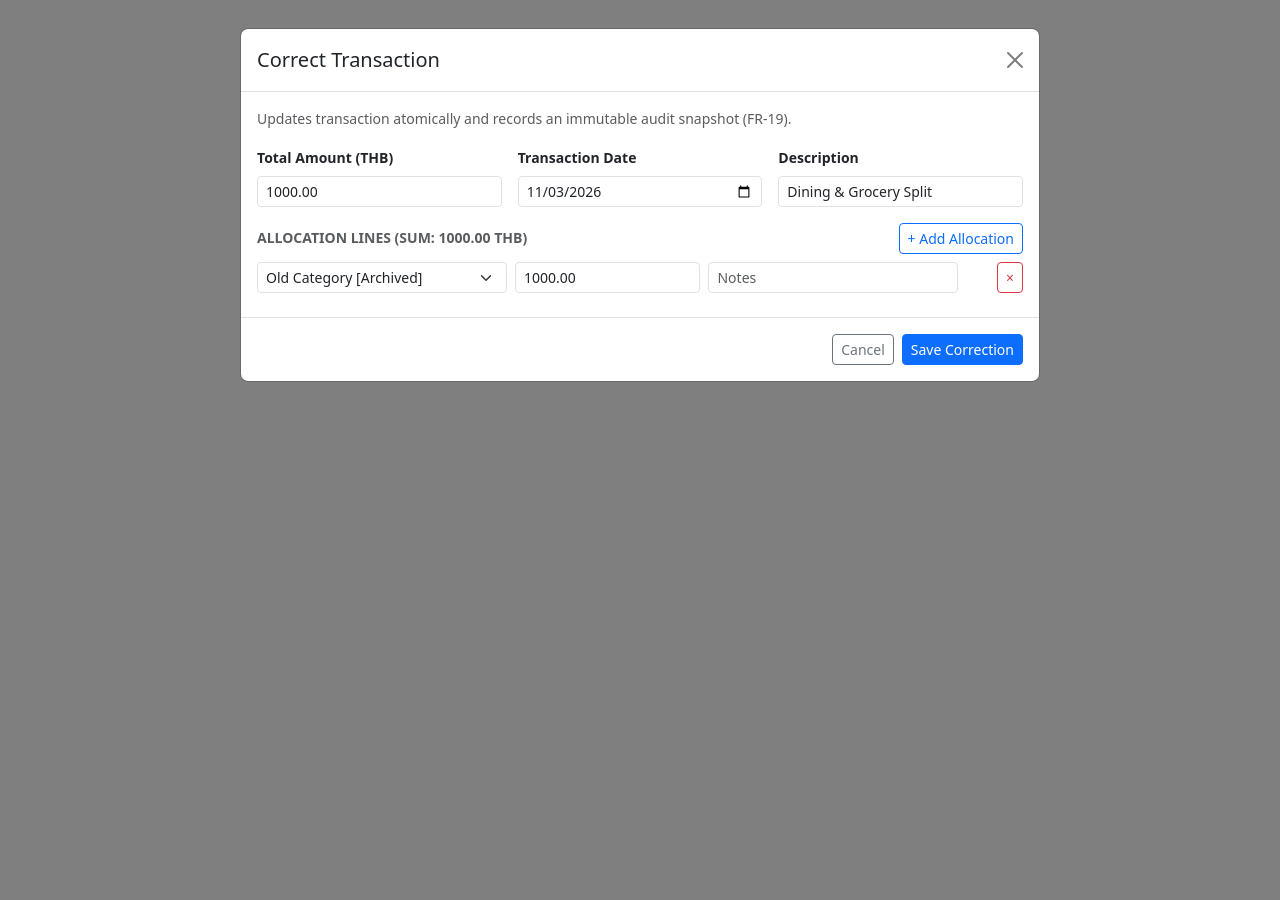
Scenario: Frontend TransactionCorrectionModal Suite (WP-11, Feature F-16, Task 3) › blocks submitting a transaction whose existing target account is archived
Step 1. Click the button with test id "btn-save-correction" → (962, 350), box x1=902 y1=334 x2=1023 y2=365
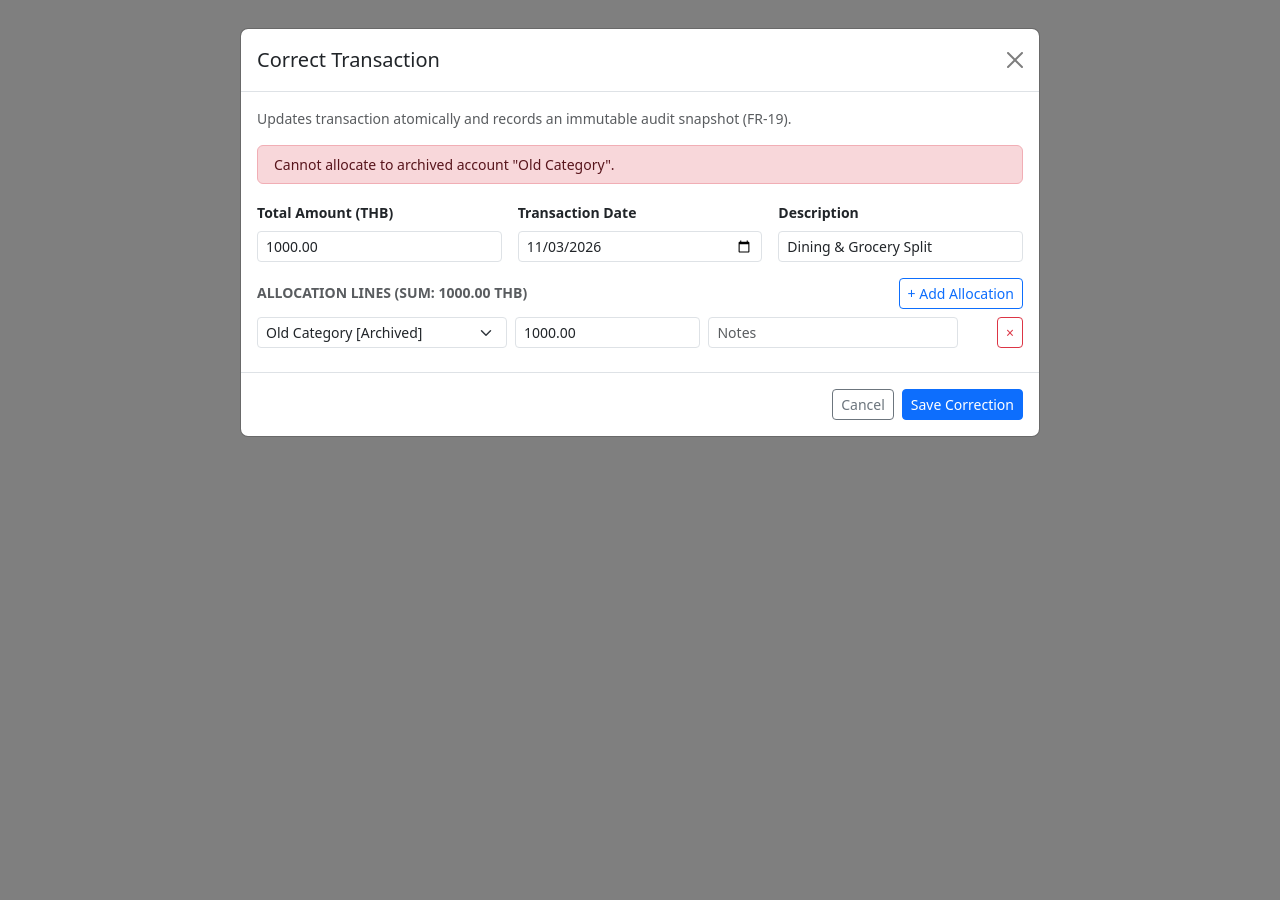
Expected: the message with test id "correction-error" shows "archived account", x1=274 y1=155 x2=615 y2=174
